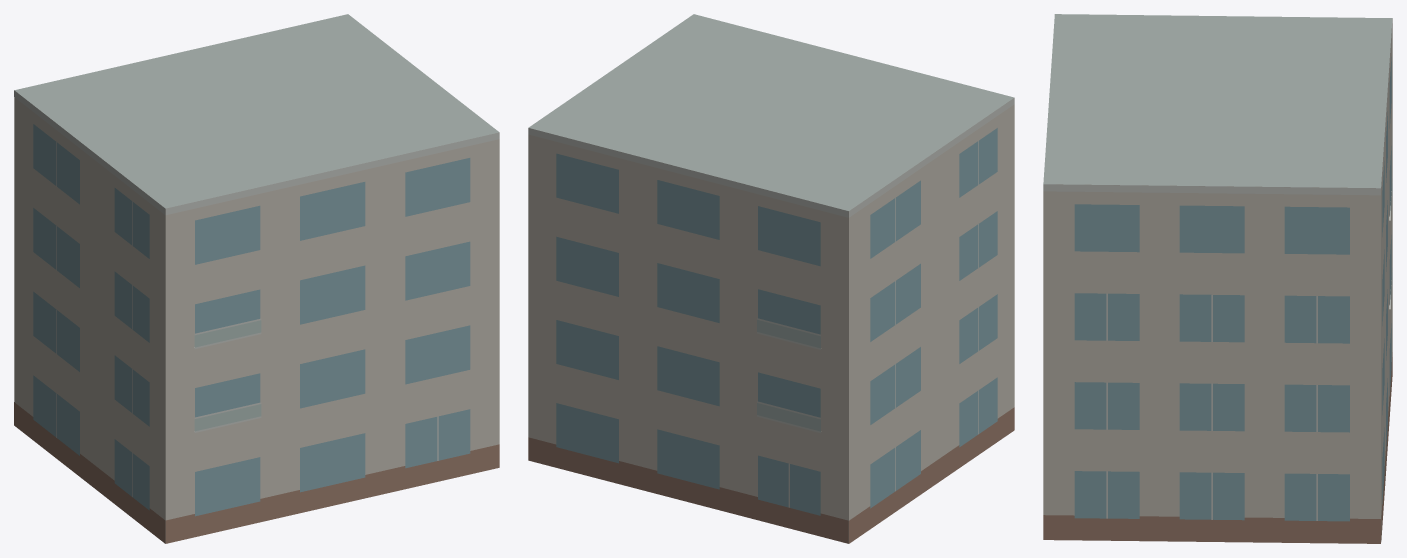
The model's file is residential-fce18e8d-66db-4665-b461-69d39733f038.glb.
3 renders of one model, left to right at view 1: azimuth 30°, elevation 25°; view 2: azimuth 150°, elevation 25°; view 3: azimuth 270°, elevation 25°, orthographic. The views are drawn at different scales.
Visible parts, largest first — view 1: residential-fce18e8d-66db-4665-b461-69d39733f038.tmp; view 2: residential-fce18e8d-66db-4665-b461-69d39733f038.tmp; view 3: residential-fce18e8d-66db-4665-b461-69d39733f038.tmp.
Boxes of the visible parts, left/top/right/bottom form: residential-fce18e8d-66db-4665-b461-69d39733f038.tmp: left=14, top=14, right=499, bottom=543; residential-fce18e8d-66db-4665-b461-69d39733f038.tmp: left=528, top=14, right=1014, bottom=543; residential-fce18e8d-66db-4665-b461-69d39733f038.tmp: left=1043, top=14, right=1392, bottom=543.
Bounding box in the file's own units: 12.82 × 12.2 × 10.87.
